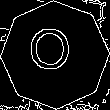O_S: (33, 29, 77, 81)
